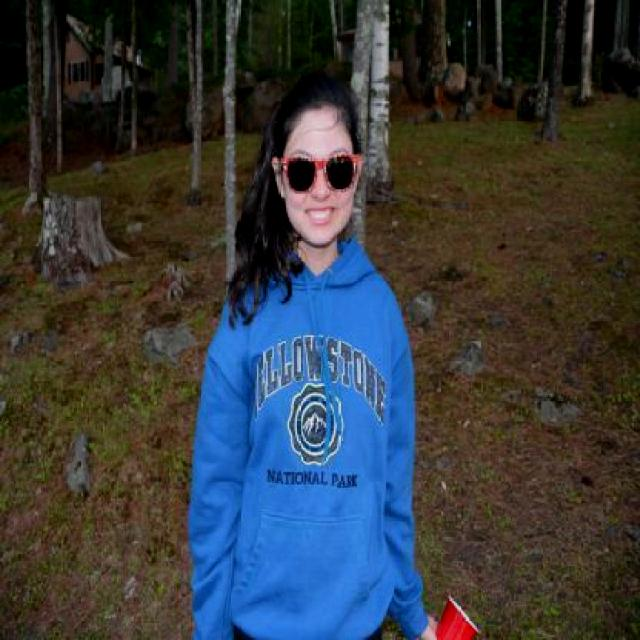face_nomask: (276, 138, 356, 234)
glasses: (278, 158, 362, 195)
head_nohelmet: (262, 67, 375, 138)
person: (184, 55, 445, 640)
